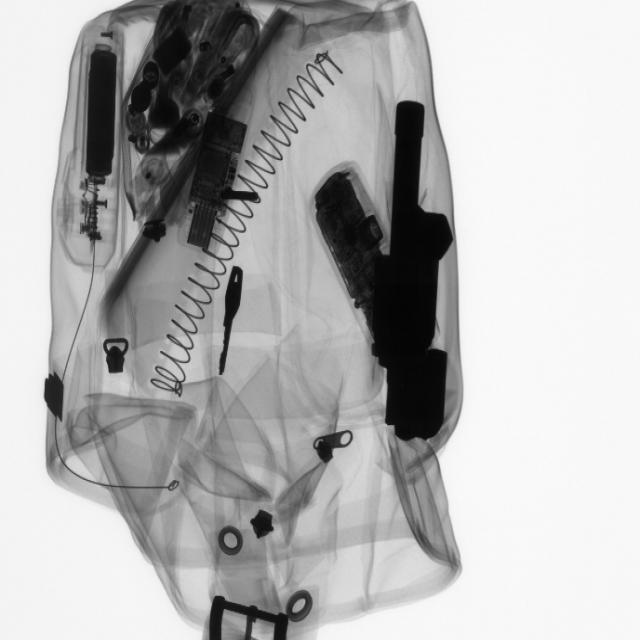GUN: (367, 81, 460, 450)
